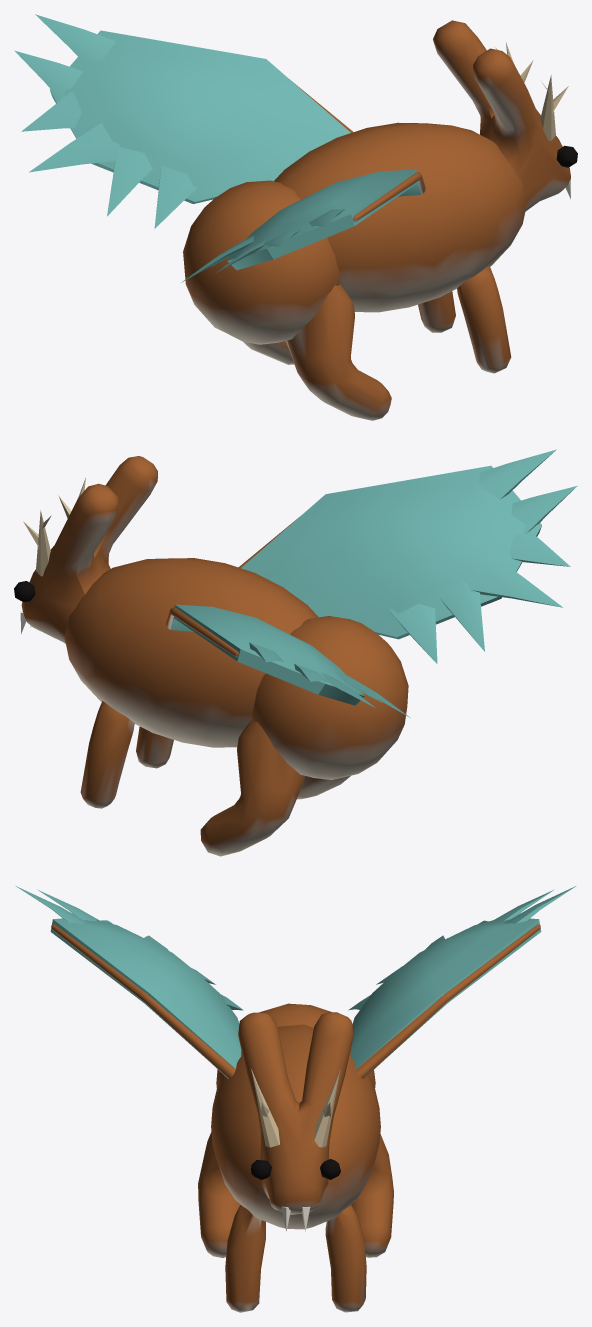
Rendered from wolpertinger.glb.
3 renders of one model, top to bottom at view 1: azimuth 30°, elevation 25°; view 2: azimuth 150°, elevation 25°; view 3: azimuth 270°, elevation 25°, orthographic. The views are drawn at different scales.
Visible parts, largest first — view 1: wolpertinger.001; view 2: wolpertinger.001; view 3: wolpertinger.001.
Part boxes in pixels (box(x1,y1,x2,y2)): wolpertinger.001: box(14, 14, 577, 420); wolpertinger.001: box(14, 449, 577, 856); wolpertinger.001: box(16, 886, 575, 1312).
Size of the model in its own units: 0.9744 by 0.6445 by 1.06.
